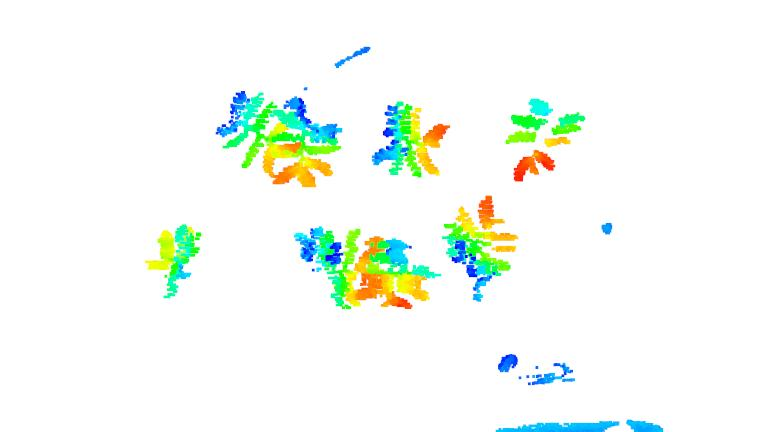chickpea: (441, 192, 520, 301), (292, 225, 384, 313), (213, 88, 300, 175), (502, 96, 589, 181), (267, 96, 342, 188), (351, 237, 439, 315), (370, 101, 451, 181), (143, 220, 205, 302)
